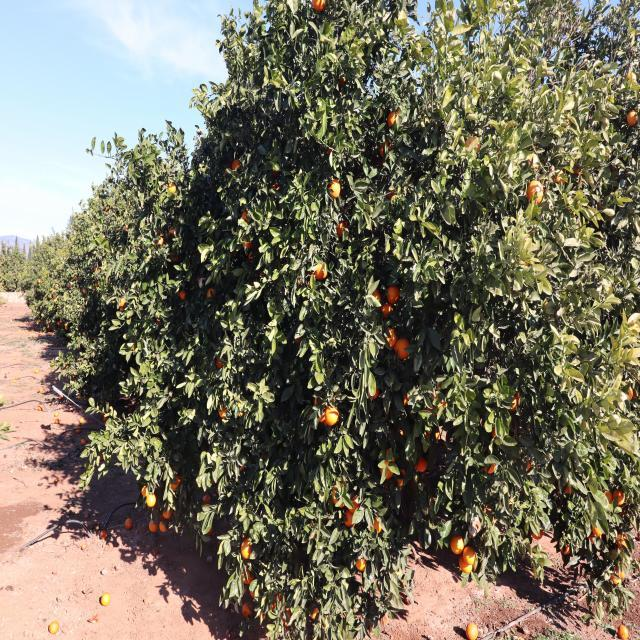Jeruk Sudah Matang: (525, 177, 547, 205), (460, 132, 482, 158), (503, 386, 522, 414), (330, 482, 349, 509), (376, 454, 394, 482), (394, 337, 414, 362), (524, 148, 542, 175), (306, 602, 324, 628), (614, 530, 632, 555), (614, 556, 632, 580), (550, 163, 568, 187), (240, 564, 258, 587), (450, 529, 465, 556), (326, 401, 342, 426), (240, 599, 258, 621), (556, 535, 574, 557), (314, 256, 329, 282), (414, 450, 429, 476), (386, 282, 402, 306), (348, 490, 364, 514), (461, 545, 480, 565), (242, 534, 256, 561), (375, 138, 393, 159), (368, 376, 382, 403), (528, 521, 546, 542), (341, 508, 358, 530), (457, 552, 474, 574), (611, 486, 628, 508), (334, 216, 350, 239), (354, 552, 370, 575), (590, 515, 606, 538), (370, 510, 384, 536), (600, 482, 614, 508), (424, 422, 442, 442), (606, 572, 624, 592), (327, 178, 343, 200), (382, 326, 398, 348), (281, 608, 297, 630), (368, 285, 383, 308), (483, 453, 498, 476), (435, 394, 452, 414), (217, 402, 232, 424), (487, 419, 502, 441), (622, 109, 639, 128), (250, 580, 264, 602), (522, 455, 538, 474), (380, 300, 395, 320), (561, 476, 576, 496), (402, 391, 416, 412), (214, 354, 230, 372), (573, 162, 585, 186), (170, 472, 183, 494), (386, 183, 401, 202), (622, 382, 636, 402), (387, 110, 400, 131), (385, 443, 397, 465), (174, 288, 190, 304), (162, 504, 176, 522), (312, 390, 323, 412), (584, 530, 599, 546), (201, 490, 214, 508), (310, 0, 328, 13), (424, 400, 437, 418), (146, 492, 159, 509), (316, 408, 328, 424), (232, 156, 242, 175), (396, 470, 406, 489), (243, 233, 254, 250), (337, 72, 348, 89), (168, 180, 178, 198), (148, 516, 158, 534), (304, 274, 316, 289), (271, 164, 282, 180), (167, 224, 179, 238), (270, 182, 284, 194), (274, 590, 286, 604), (242, 208, 252, 224), (207, 286, 217, 302), (159, 518, 169, 534), (154, 236, 166, 248), (430, 386, 438, 404), (118, 294, 128, 306), (222, 165, 231, 178), (248, 248, 255, 264), (142, 484, 150, 498), (116, 304, 126, 314), (396, 104, 404, 116), (195, 274, 202, 284), (132, 342, 139, 352), (157, 226, 164, 234), (93, 264, 99, 272), (54, 281, 60, 288), (70, 371, 76, 377), (94, 281, 99, 287), (74, 276, 79, 282), (81, 306, 85, 313), (53, 296, 57, 303), (66, 283, 71, 288), (64, 321, 69, 326), (92, 287, 96, 293), (82, 288, 86, 294), (57, 320, 61, 326), (50, 286, 54, 292), (42, 290, 46, 296), (52, 287, 56, 293), (56, 294, 60, 300), (38, 278, 42, 283), (48, 324, 51, 330), (39, 318, 42, 324), (50, 294, 53, 300), (64, 326, 68, 330), (44, 296, 48, 300), (60, 320, 63, 324)
